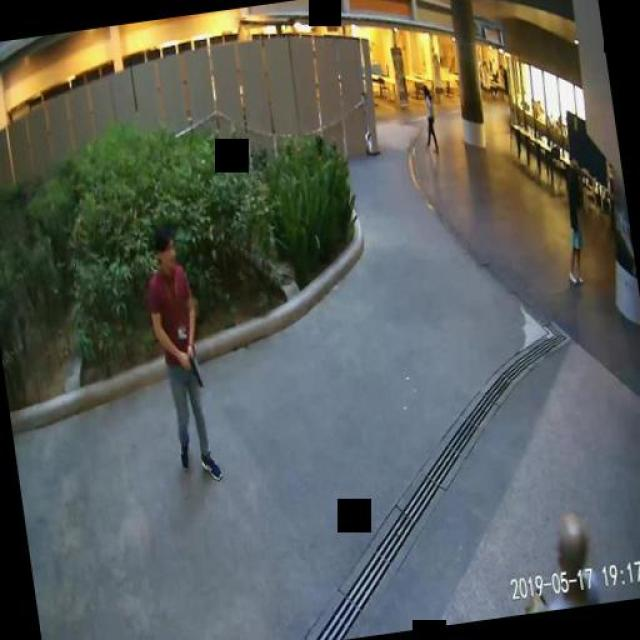gun: (181, 355, 200, 386)
